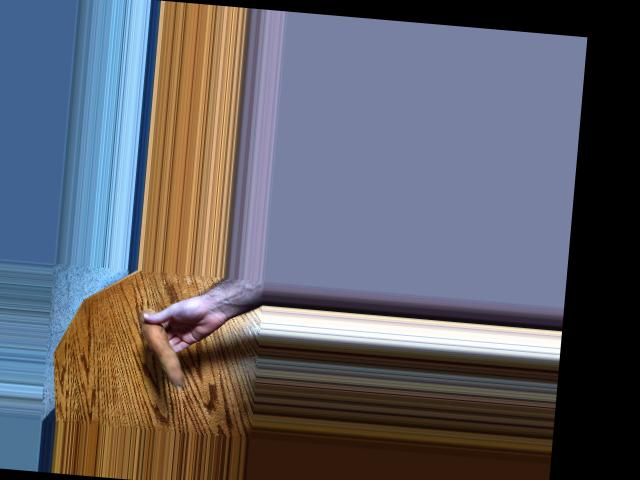sweet_potato: (133, 305, 191, 386)
